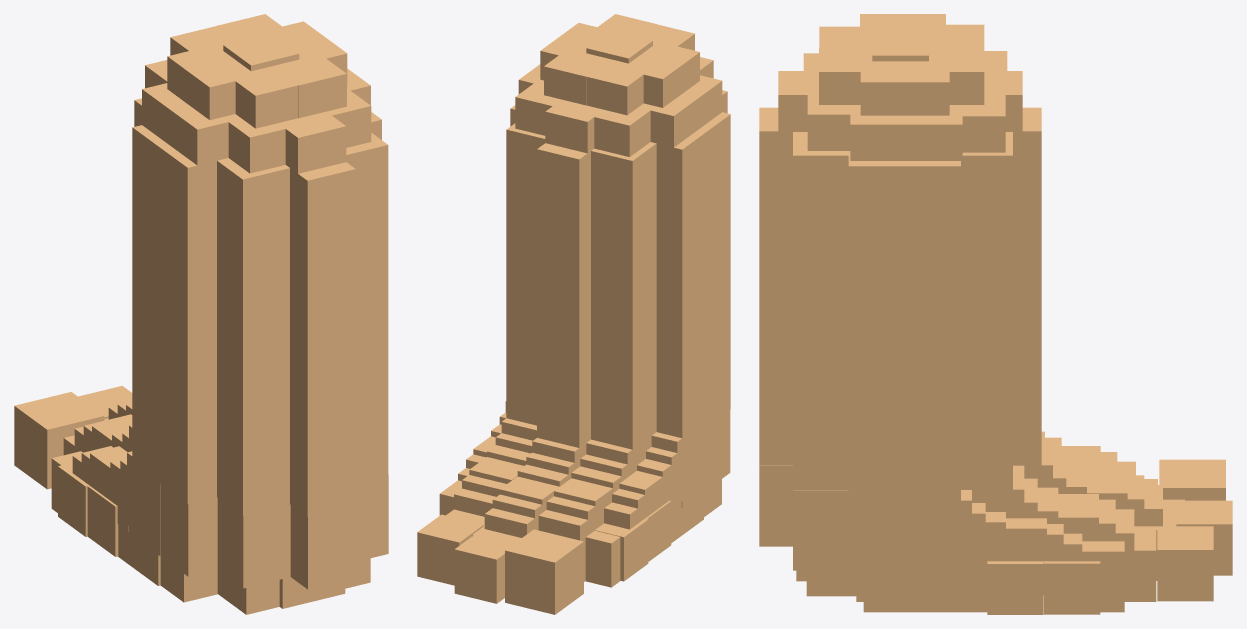
Rendered from pierna_Der.obj.
The picture shows the model from 3 angles, left to right: view 1: azimuth 30°, elevation 25°; view 2: azimuth 150°, elevation 25°; view 3: azimuth 270°, elevation 25°; orthographic projection. The views are drawn at different scales.
Visible parts, largest first — view 1: Box2581; view 2: Box2581; view 3: Box2581.
Boxes of the visible parts, x1,y1,x2,y2 form: Box2581: (14,14,388,614); Box2581: (417,14,730,614); Box2581: (759,14,1232,614).
Size of the model in its own units: 0.4178 by 1 by 0.8256.
